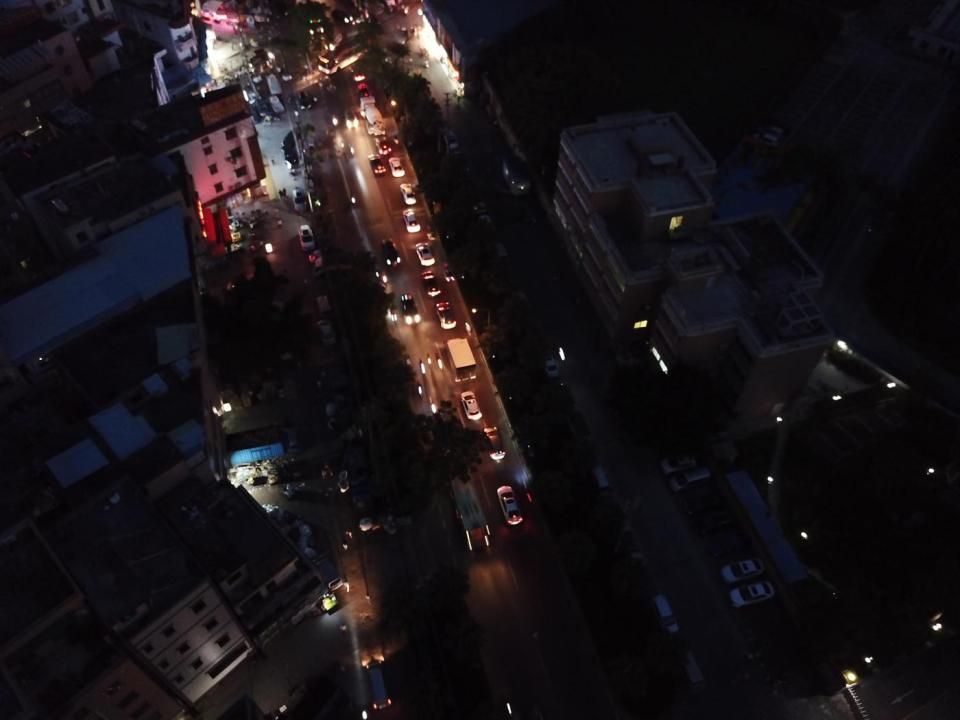bus: (446, 466, 490, 546), (318, 34, 372, 74)
car: (364, 659, 393, 710), (719, 555, 766, 585), (730, 580, 776, 610), (683, 490, 731, 517), (496, 484, 524, 525), (660, 452, 698, 473), (483, 427, 506, 460), (439, 124, 460, 159), (400, 293, 421, 325), (436, 301, 458, 329), (461, 391, 482, 420), (420, 270, 442, 297), (415, 242, 436, 266), (382, 238, 400, 265), (298, 224, 316, 250), (318, 319, 336, 345), (282, 126, 302, 149), (367, 153, 387, 175), (402, 209, 420, 233), (282, 146, 300, 170), (398, 183, 417, 205), (374, 136, 394, 156), (542, 356, 560, 378), (292, 185, 305, 213), (389, 156, 405, 178), (344, 108, 358, 128), (298, 90, 312, 110)
truck: (443, 337, 477, 382), (311, 250, 353, 278), (359, 95, 386, 136)
van: (668, 465, 714, 493), (312, 553, 344, 592), (680, 651, 707, 697), (652, 592, 680, 635), (501, 159, 531, 197), (316, 295, 333, 319)
